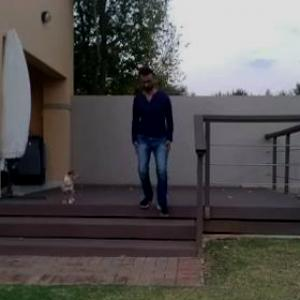follow: (137, 66, 176, 218)
